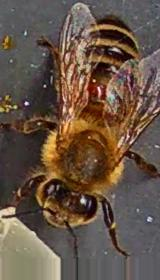varroa_mite: (82, 79, 106, 100)
